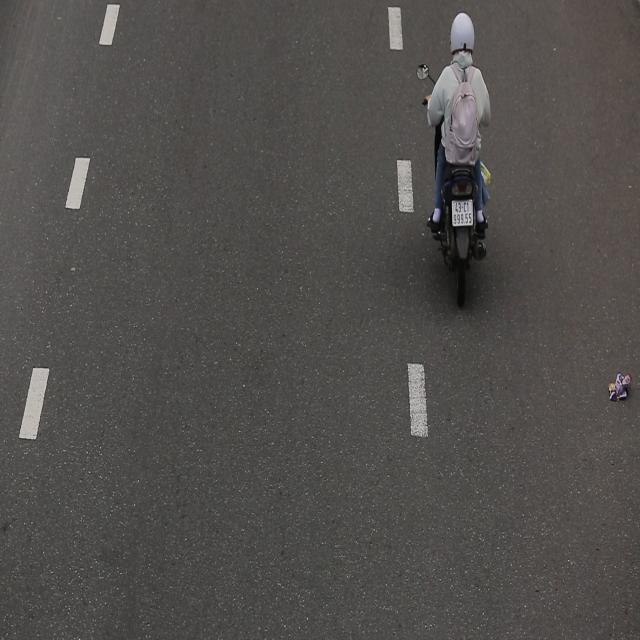motorbike: (414, 6, 516, 315)
